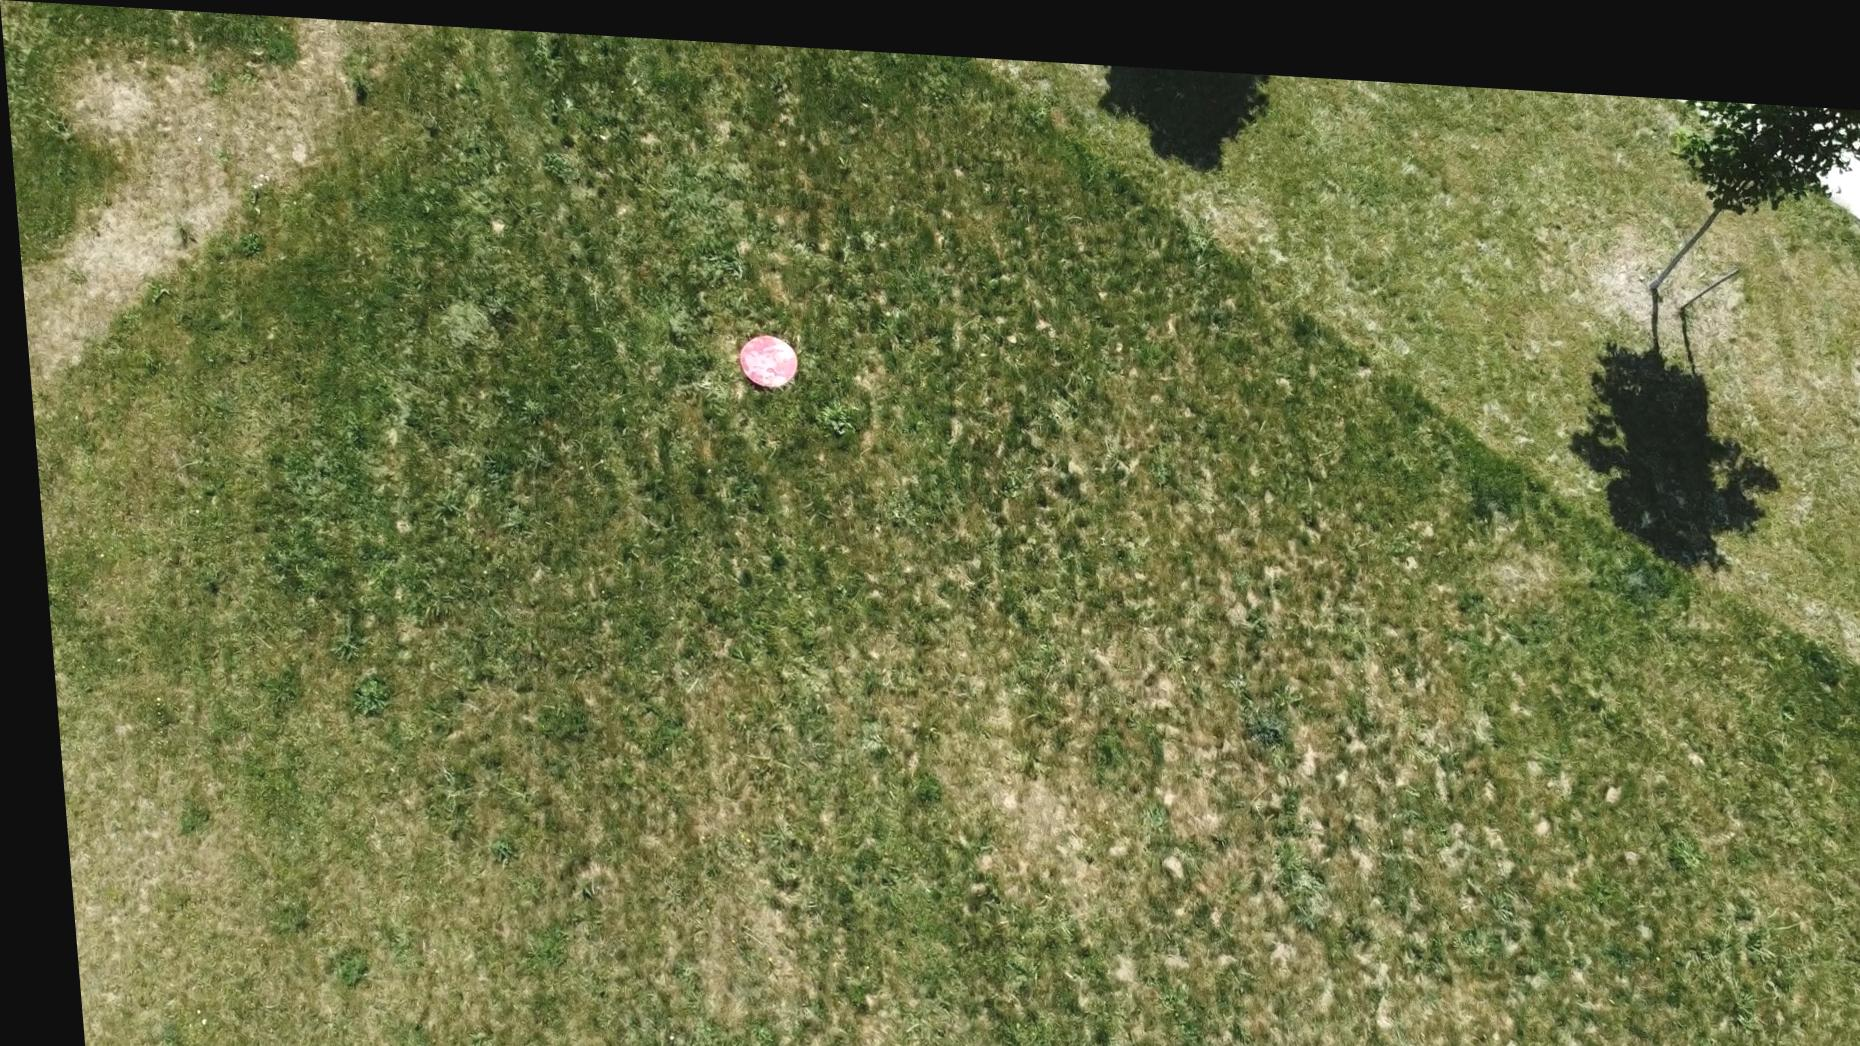Red: (729, 319, 798, 384)
